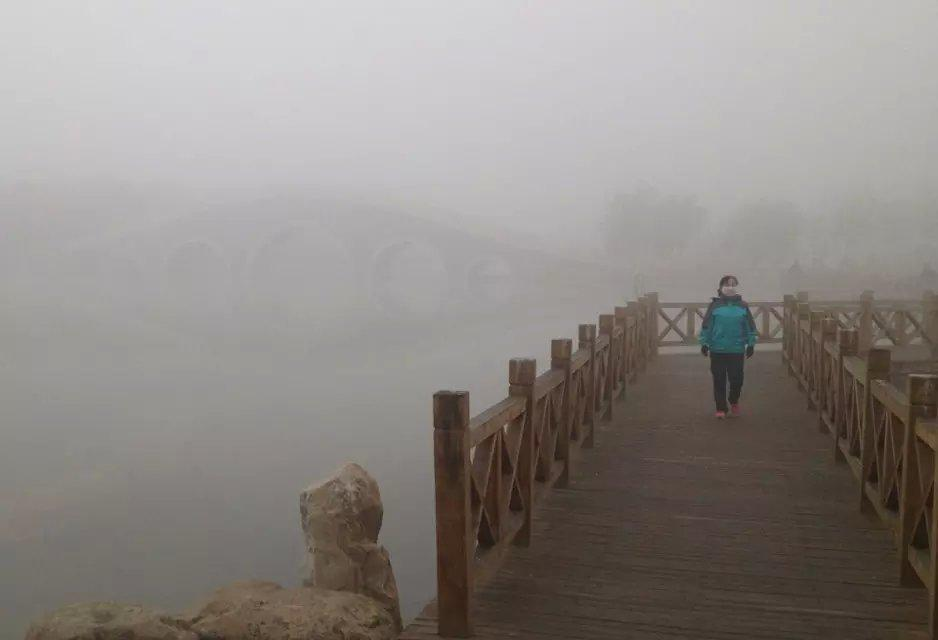person: (699, 273, 759, 419)
